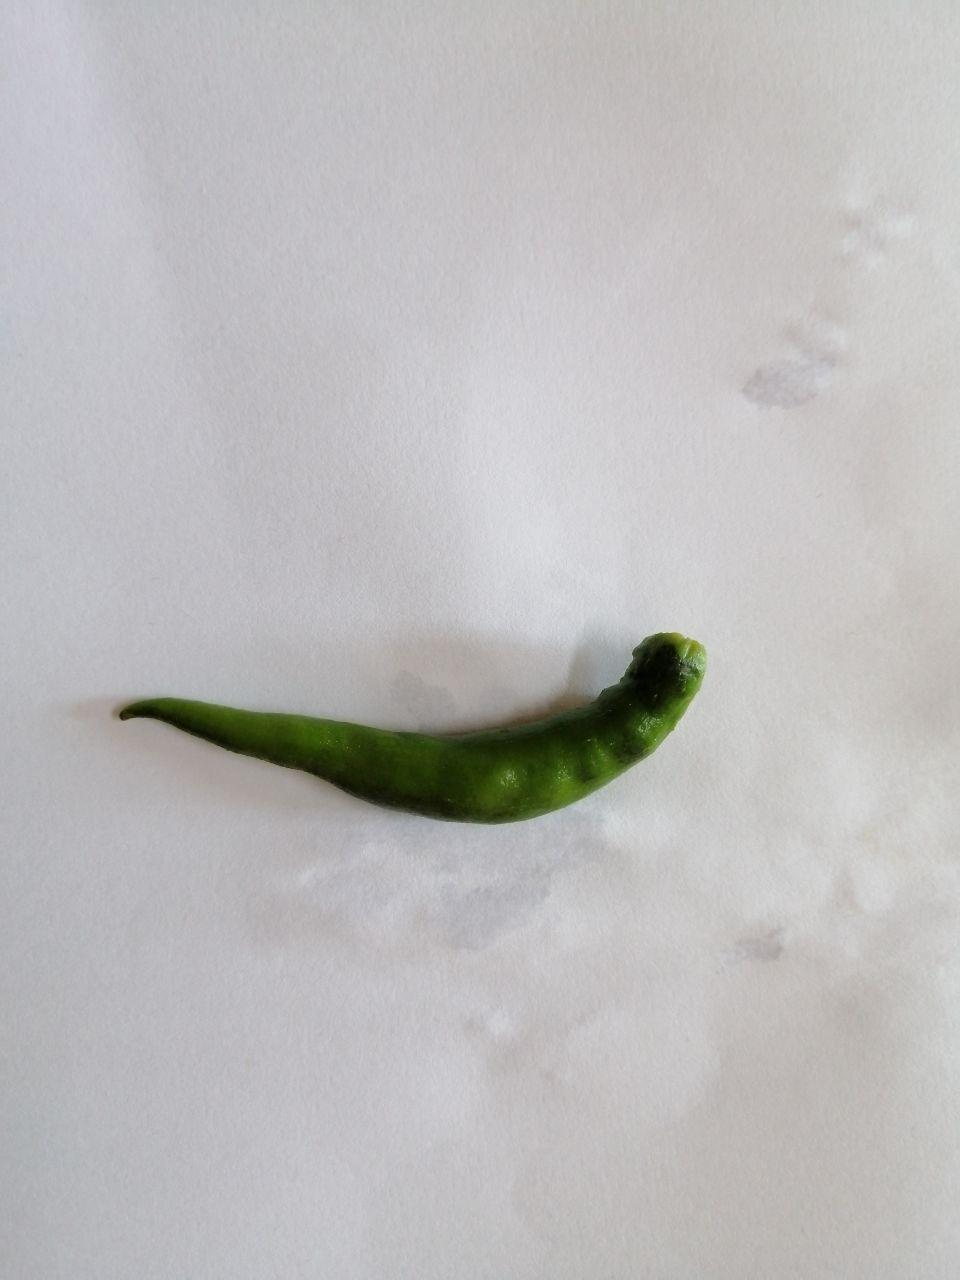lada hijau: (128, 578, 745, 878)
